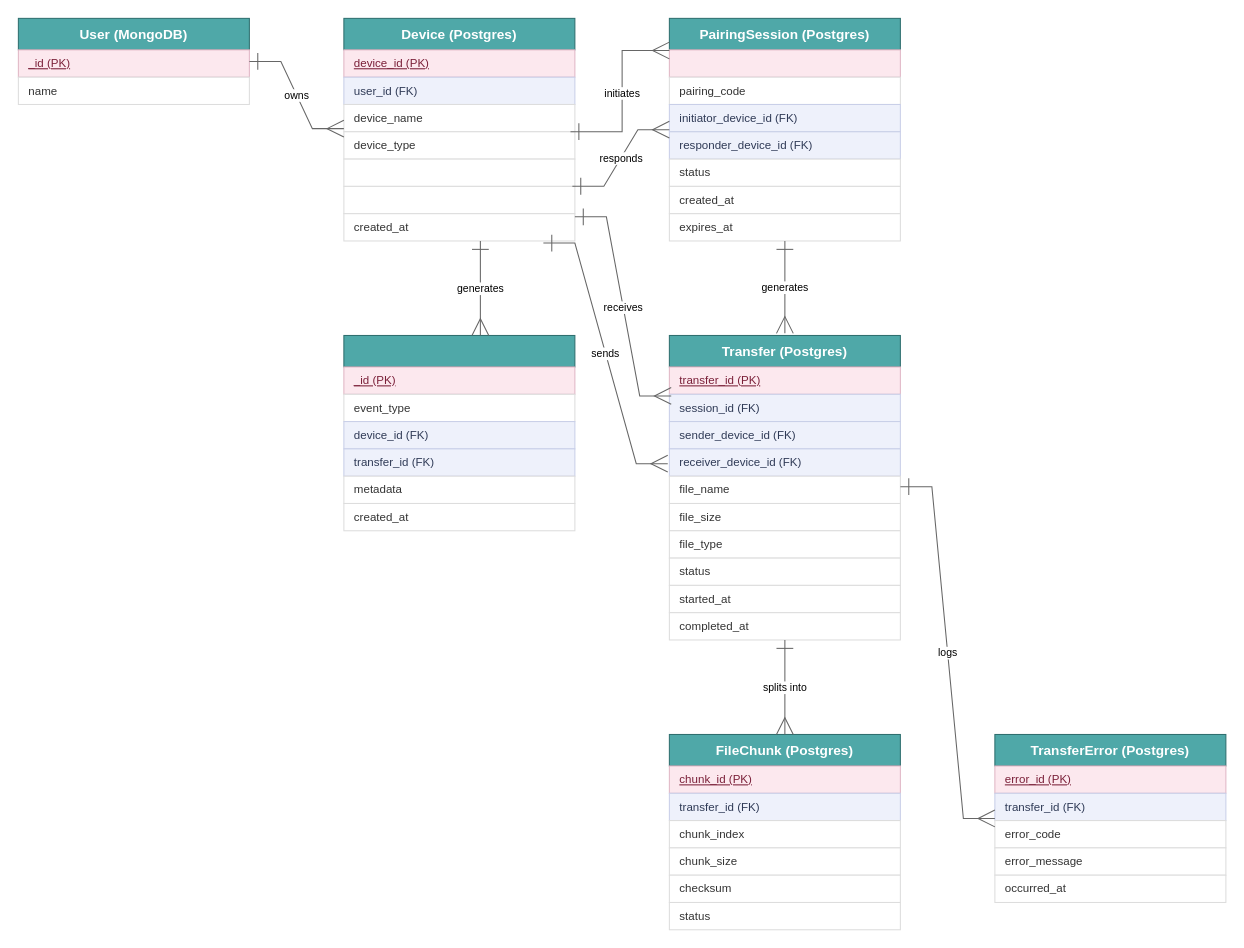
Some shapes in this 1244 by 948 pixel diagram are drawn without their labels. The centre of each missing label's shape, as x and y in pixels:
"AnalyticsEvent (MongoDB)" goes at [459,350].
"last_ip" goes at [459,199].
"os" goes at [459,172].
"session_id (PK)" goes at [784,63].
